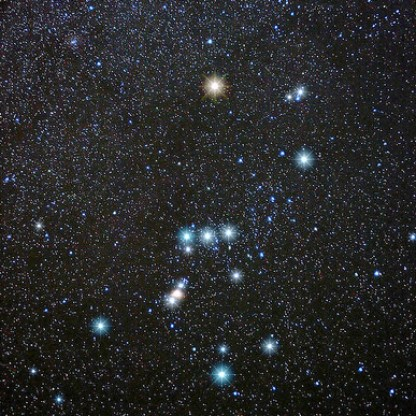Orion: (195, 66, 242, 110), (284, 137, 324, 179), (202, 356, 241, 391), (84, 306, 117, 341), (169, 221, 197, 255), (198, 213, 218, 254), (222, 216, 243, 250)
